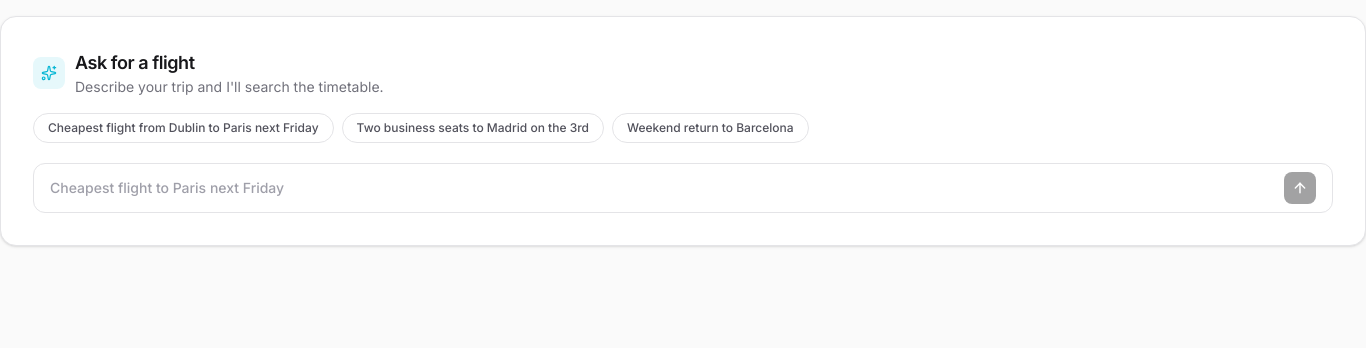
Test case: AssistantChat › failures › keeps the transcript when one message fails
In the field named "Describe your trip": coordinates (663, 188) [50,174,1276,202], type "hello there"
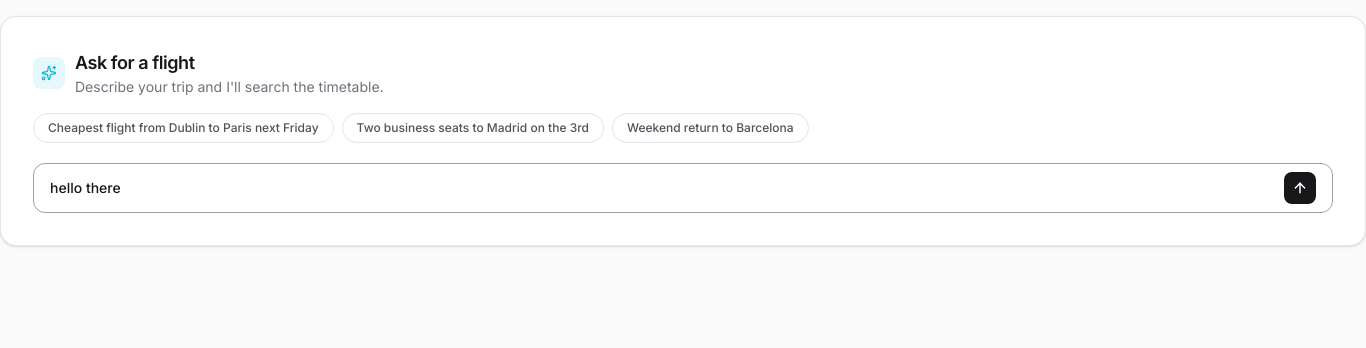
Click the button named "Send": coordinates (1300, 188) [1284,172,1316,204]
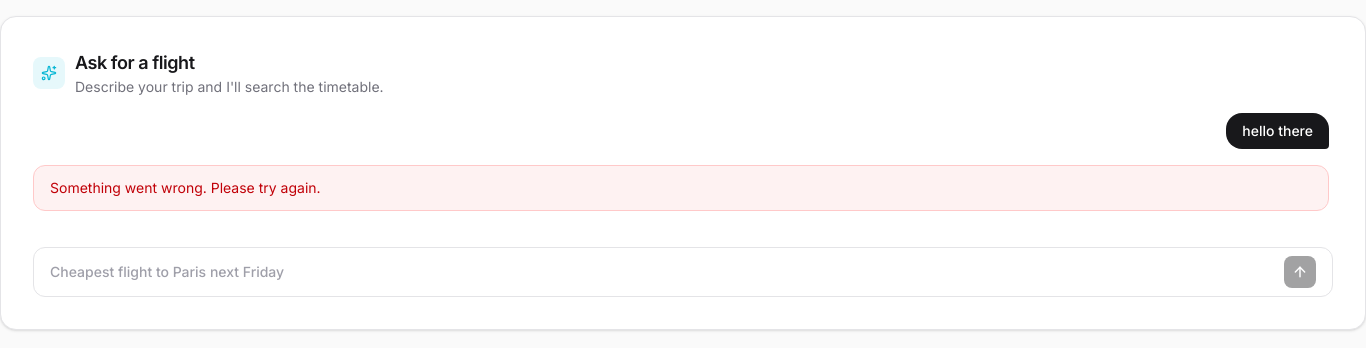
Now the text "hello there" is shown, box [1226,113,1329,149]
Now the text "Something went wrong. Please try again." is shown, box [33,165,1329,211]
